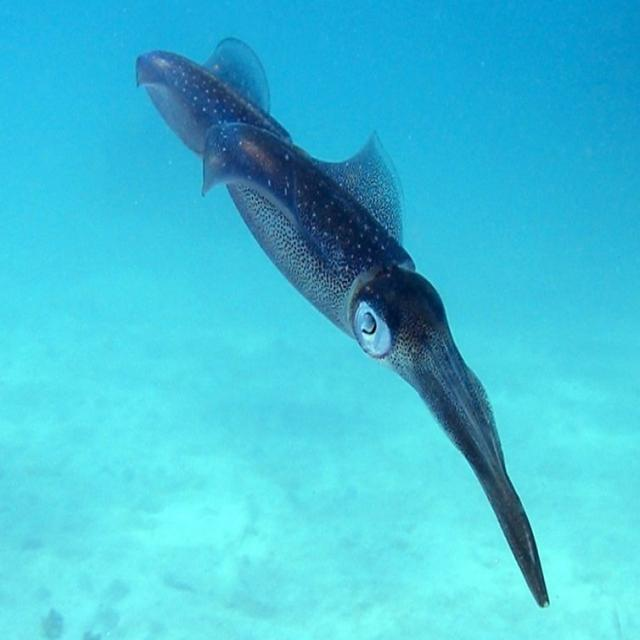SQUID: (130, 28, 562, 609)
